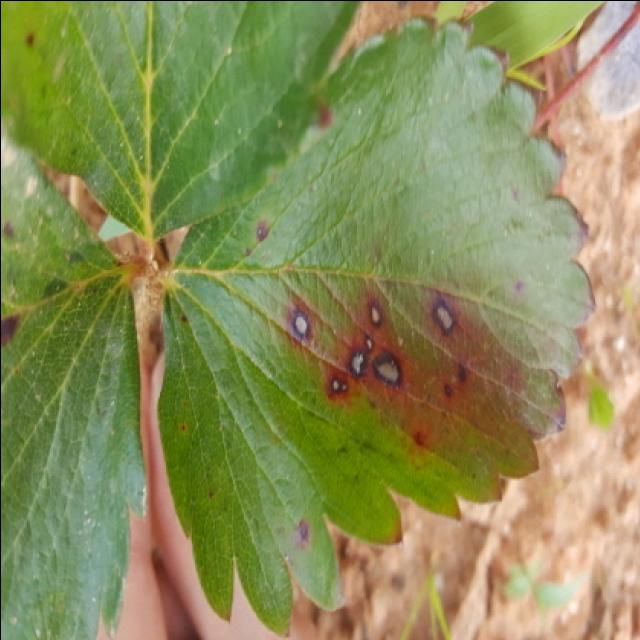Leaf Spot: (157, 13, 599, 638), (0, 2, 360, 243), (0, 125, 147, 640)
